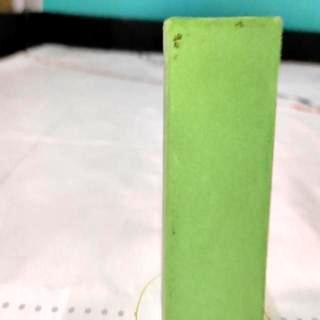greenbox: (162, 15, 282, 320)
